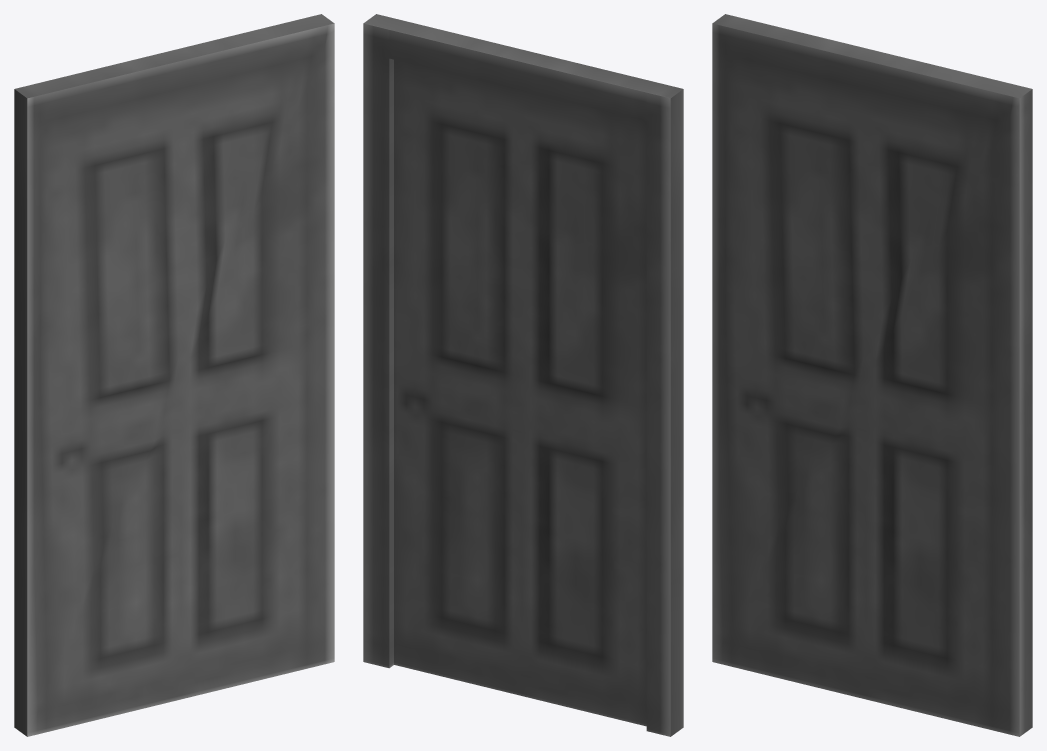
File: Door.fbx
The picture shows the model from 3 angles, left to right: view 1: azimuth 30°, elevation 25°; view 2: azimuth 150°, elevation 25°; view 3: azimuth 330°, elevation 25°; orthographic projection.
Visible parts, largest first — view 1: Cube.002; view 2: Cube.002; view 3: Cube.002.
Boxes of the visible parts, x1,y1,x2,y2 form: Cube.002: (14, 14, 334, 736); Cube.002: (363, 14, 683, 736); Cube.002: (712, 14, 1032, 736).
Bounding box in the file's own units: 103 × 204 × 7.51.
